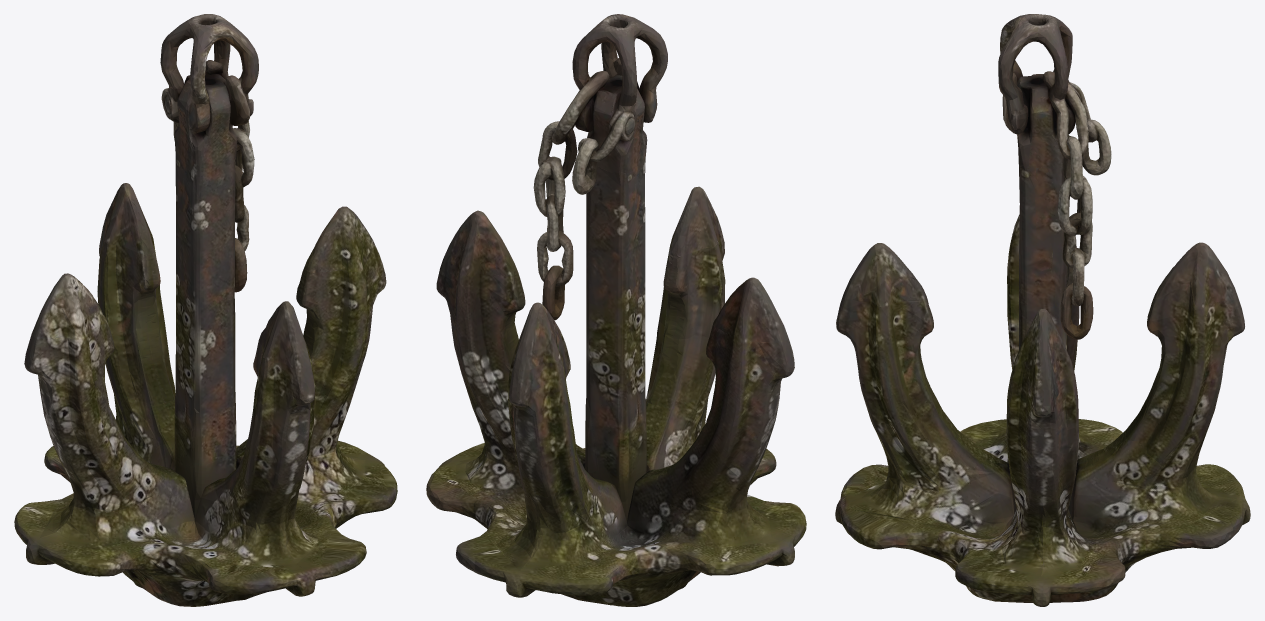
Rendered from anchor.glb.
3 views of the same model, side by side, from view 1: azimuth 30°, elevation 25°; view 2: azimuth 150°, elevation 25°; view 3: azimuth 270°, elevation 25° (orthographic).
Visible parts, largest first — view 1: geometry_0; view 2: geometry_0; view 3: geometry_0.
Part boxes in pixels (x1=…): geometry_0: x1=14, y1=14, x2=397, y2=606; geometry_0: x1=426, y1=14, x2=806, y2=606; geometry_0: x1=835, y1=14, x2=1250, y2=606.
Size of the model in its own units: 0.6721 by 0.999 by 0.6785.
1 material, 1 textured.
